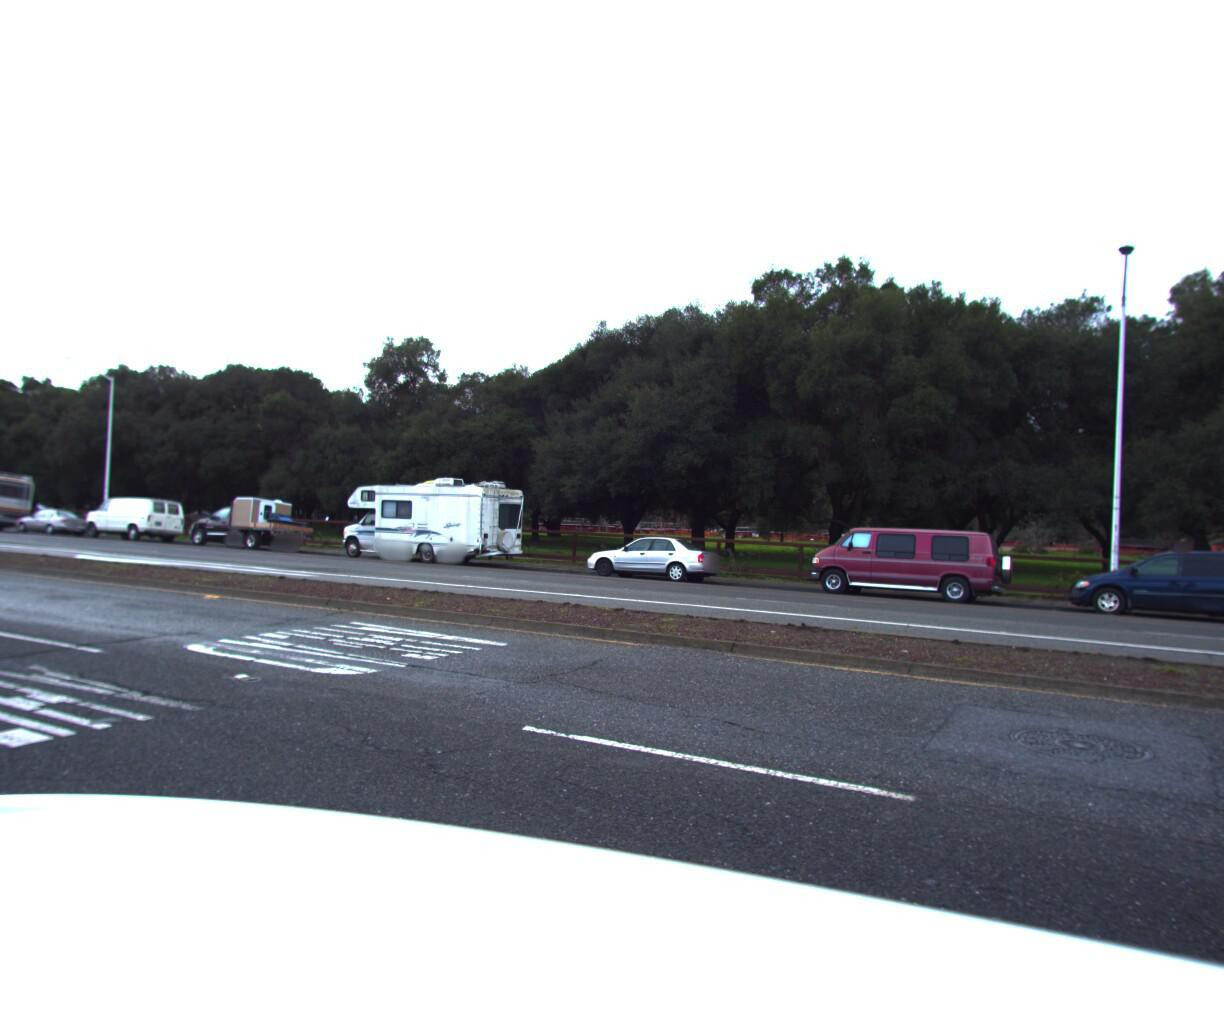car: (798, 524, 1019, 616), (1056, 544, 1224, 631), (181, 494, 321, 556), (578, 536, 726, 591), (79, 495, 191, 548), (13, 511, 95, 543)
other_vehicle: (327, 474, 535, 573), (0, 470, 46, 538)
